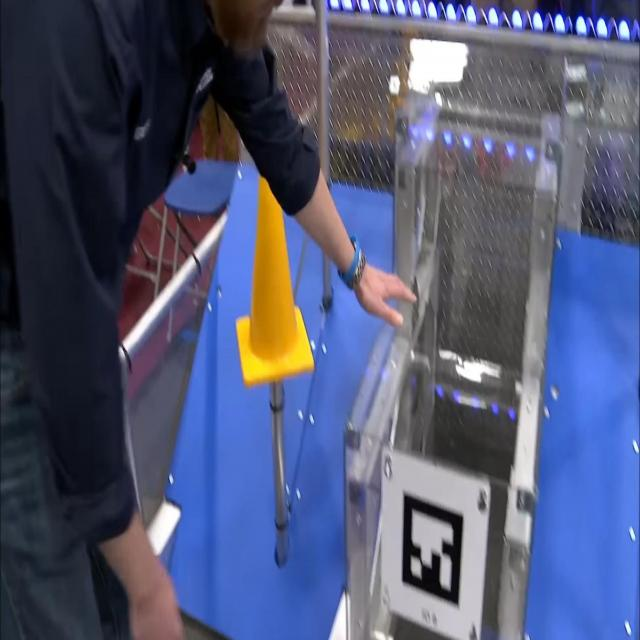frc_cone: (232, 146, 321, 387)
